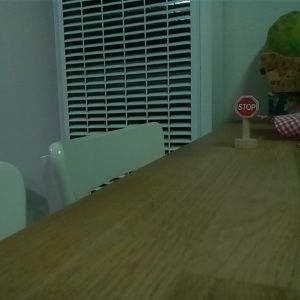stop sign: (232, 93, 261, 149)
